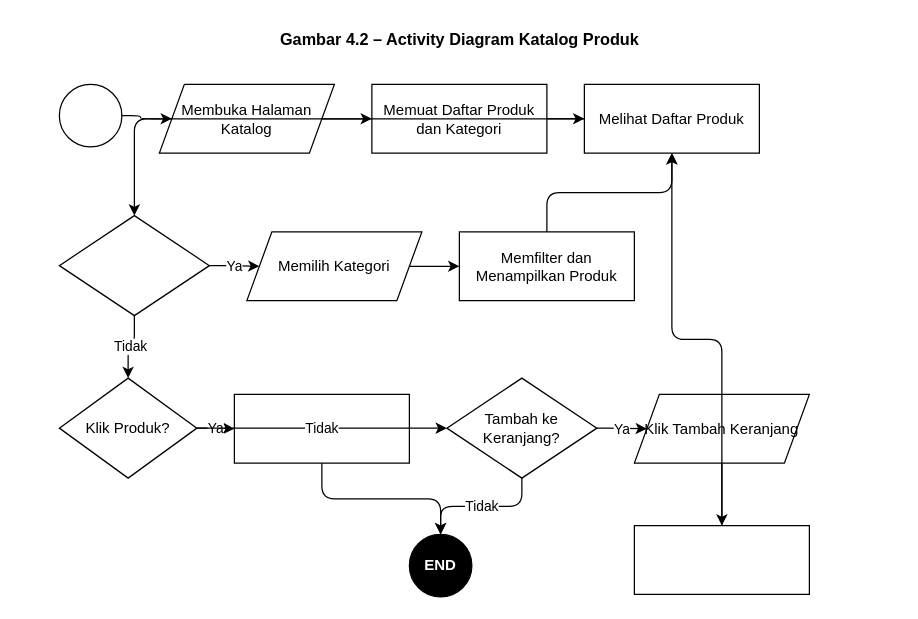
This 918x619 diagram has some shape labels left out. The shapes that lost their labels are listed below. From the top down, each one's centre as x and y in pixels, then its label:
At pixel 90 115: "START".
At pixel 133 265: "Memfilter Kategori?".
At pixel 321 428: "Ke Halaman Detail Produk".
At pixel 721 559: "Menampilkan Notifikasi Berhasil".
